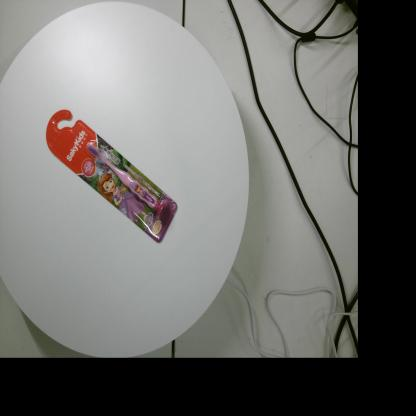Personal Hygiene: (46, 109, 178, 243)
